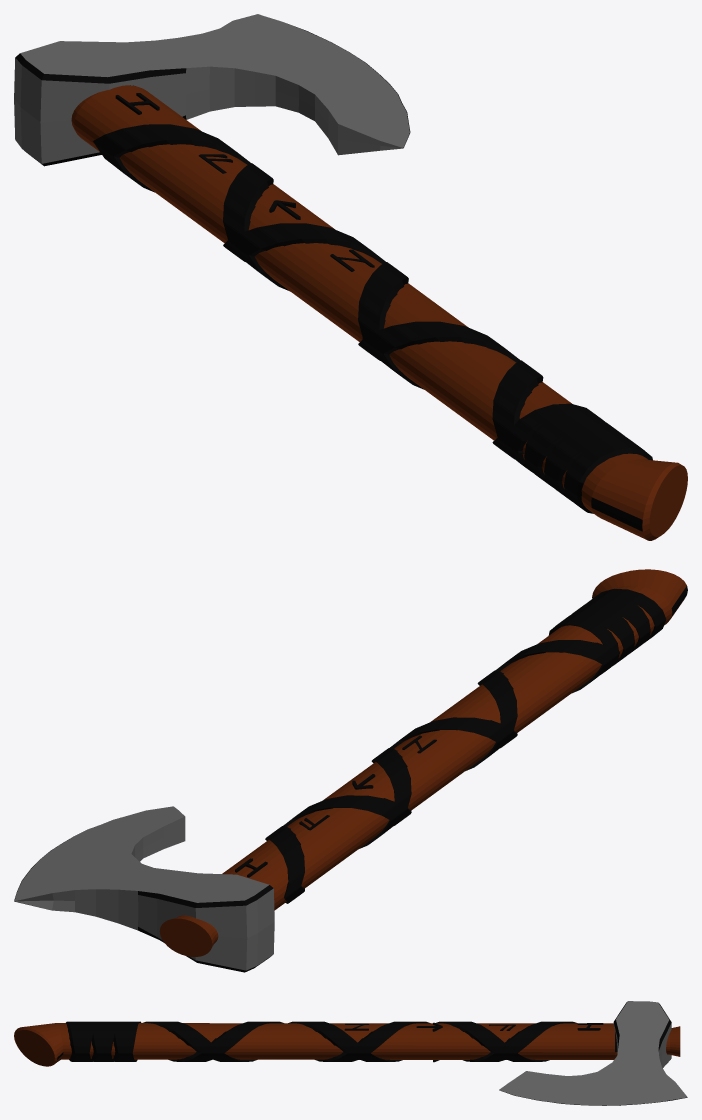
Rendered from Axe (Export) (1).fbx.
3 views of the same model, one above another, from view 1: azimuth 30°, elevation 25°; view 2: azimuth 150°, elevation 25°; view 3: azimuth 270°, elevation 25° (orthographic). The views are drawn at different scales.
Parts seen in each view (by area): view 1: Axe; view 2: Axe; view 3: Axe.
Part boxes in pixels (<box>): Axe: <box>14,14,687,540</box>; Axe: <box>14,569,687,972</box>; Axe: <box>14,1001,687,1105</box>.
Size of the model in its own units: 170 by 49.06 by 596.
